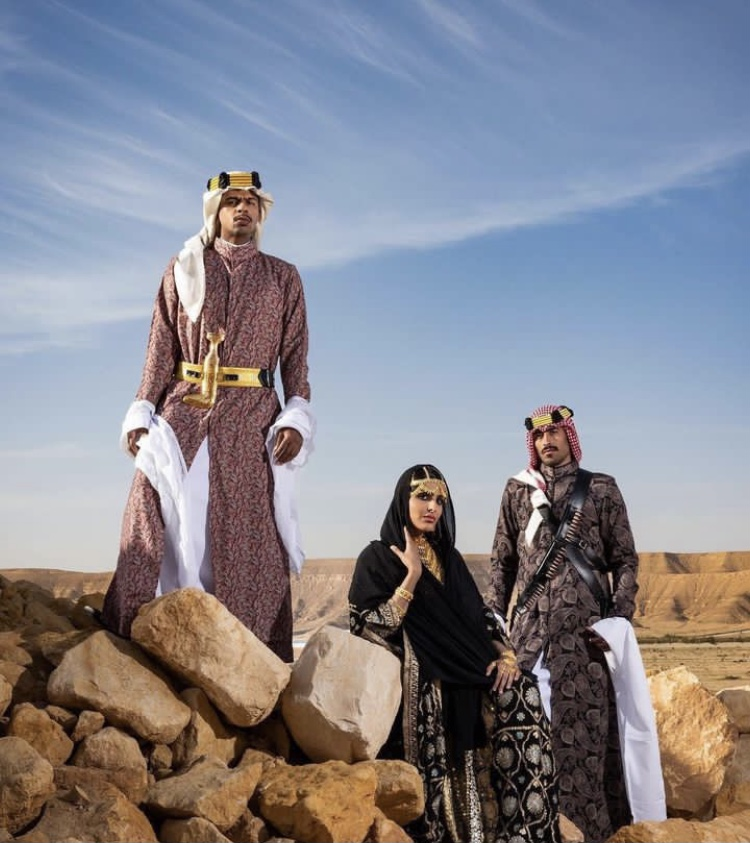Saudi_Founding_Day: (86, 168, 318, 665), (345, 462, 562, 842), (485, 401, 670, 843)
